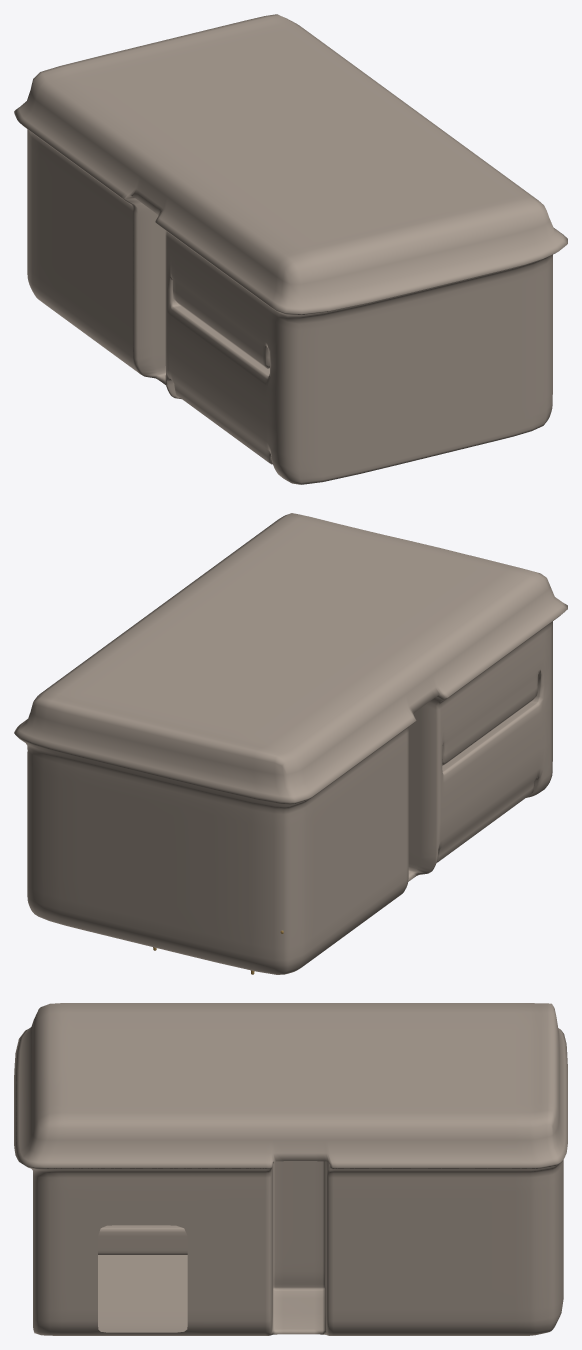
Rendered from SpaceShip_Interiorcomputer.fbx.
3 renders of one model, top to bottom at view 1: azimuth 30°, elevation 25°; view 2: azimuth 150°, elevation 25°; view 3: azimuth 270°, elevation 25°, orthographic.
Visible parts, largest first — view 1: B.Room; view 2: B.Room; view 3: B.Room.
Part boxes in pixels (x1,y1,x2,y2): B.Room: [14, 14, 567, 484]; B.Room: [14, 513, 567, 974]; B.Room: [14, 1003, 567, 1335].
Size of the model in its own units: 6012 by 4421 by 10029.
